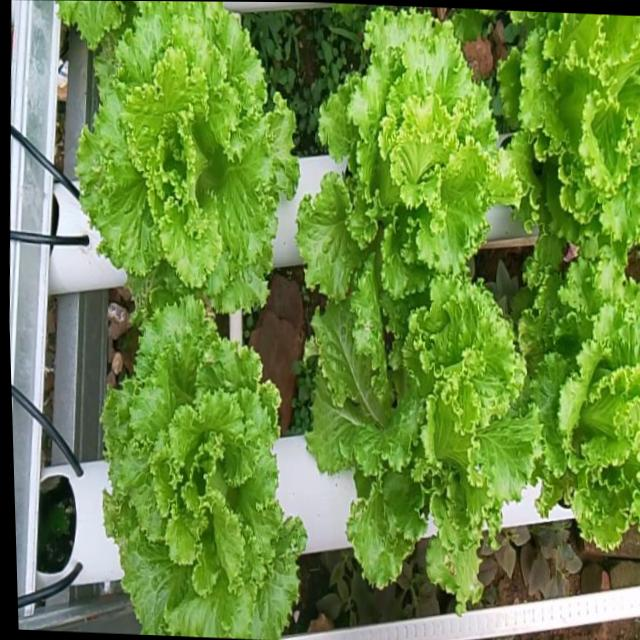Mature: (307, 286, 541, 630), (71, 1, 301, 319), (101, 296, 308, 637), (298, 11, 523, 305), (502, 15, 640, 285), (522, 266, 640, 561)
